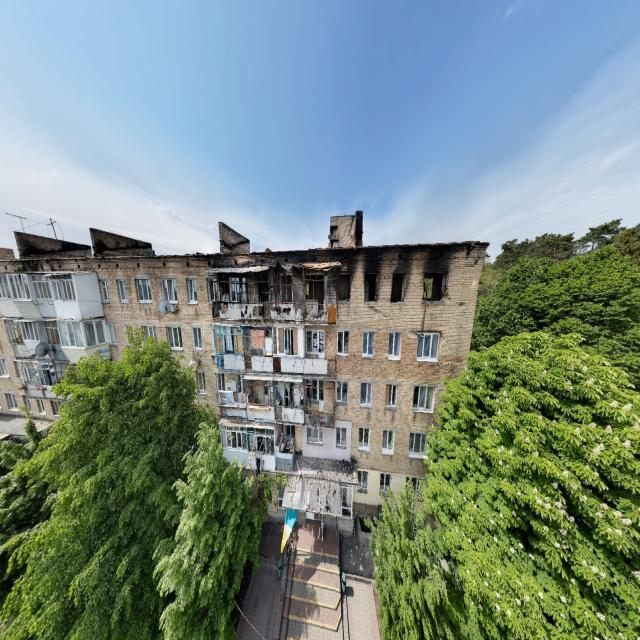broken_window: (416, 332, 439, 362), (422, 272, 444, 302), (391, 272, 406, 302), (135, 277, 152, 303), (362, 330, 374, 358)
building: (0, 211, 490, 534)
